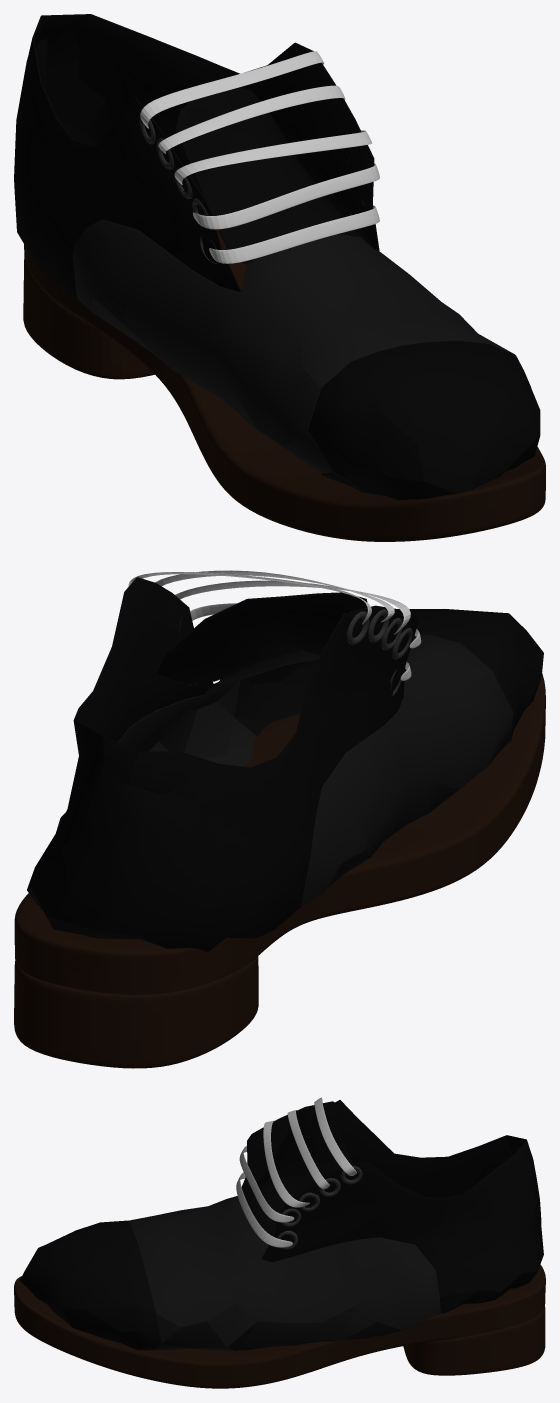
The model's file is za1in1.1izquierda.fbx.
3 renders of one model, top to bottom at view 1: azimuth 30°, elevation 25°; view 2: azimuth 150°, elevation 25°; view 3: azimuth 270°, elevation 25°, orthographic. The views are drawn at different scales.
Parts seen in each view (by area): view 1: ZAPATO1_3, Plane, Plane.002, Plane.004, Plane.005, Plane.001, Plane.003; view 2: ZAPATO1_3, Plane, Plane.001, Plane.003, Plane.004; view 3: ZAPATO1_3, Plane, Plane.001, Plane.004, Plane.003, Plane.005, Plane.002.
Part boxes in pixels (x1,y1,x2,y2): ZAPATO1_3: [14, 14, 540, 500]; Plane: [23, 229, 545, 541]; Plane.002: [193, 163, 379, 229]; Plane.004: [140, 51, 324, 128]; Plane.005: [209, 205, 379, 263]; Plane.001: [174, 130, 371, 184]; Plane.003: [158, 85, 345, 153]; ZAPATO1_3: [27, 577, 543, 952]; Plane: [14, 673, 545, 1068]; Plane.001: [175, 580, 410, 634]; Plane.003: [155, 570, 394, 622]; Plane.004: [128, 572, 371, 624]; ZAPATO1_3: [20, 1100, 543, 1350]; Plane: [14, 1264, 545, 1388]; Plane.001: [263, 1120, 309, 1207]; Plane.004: [314, 1097, 356, 1175]; Plane.003: [287, 1110, 329, 1189]; Plane.005: [236, 1172, 292, 1247]; Plane.002: [239, 1145, 294, 1222].
Bounding box in the file's own units: 174 × 204 × 447.
